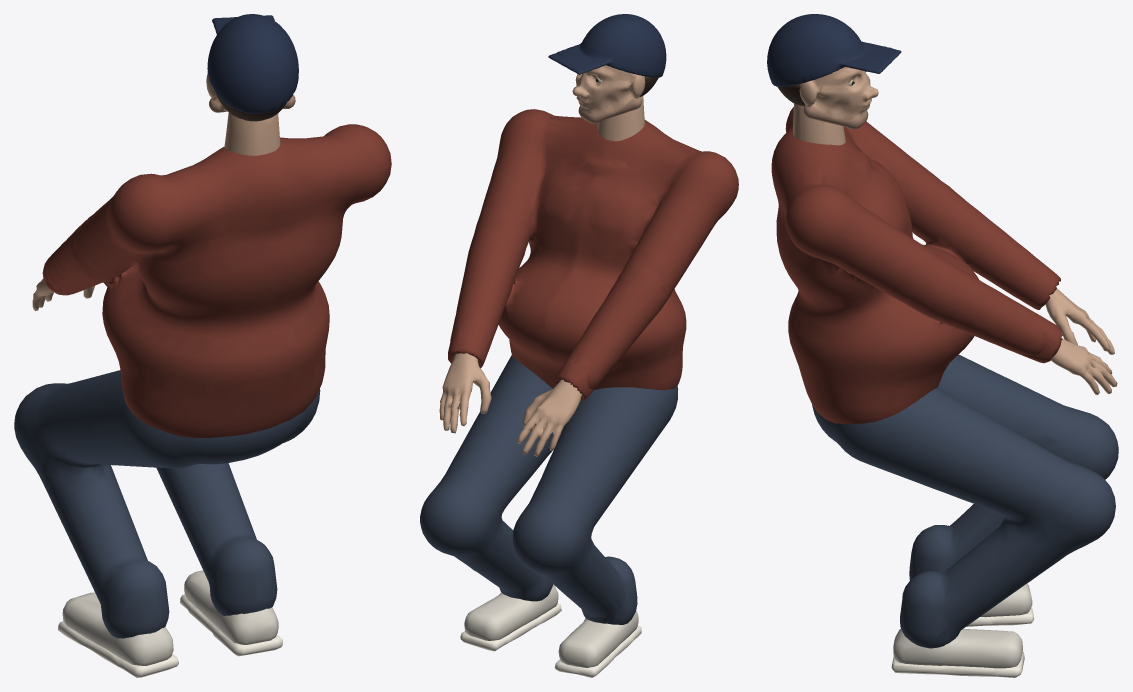
File: crew_b.glb
The picture shows the model from 3 angles, left to right: view 1: azimuth 30°, elevation 25°; view 2: azimuth 150°, elevation 25°; view 3: azimuth 270°, elevation 25°; orthographic projection. The views are drawn at different scales.
Visible parts, largest first — view 1: crew_b_body, crew_b_head, crew_b_hands; view 2: crew_b_body, crew_b_head, crew_b_hands; view 3: crew_b_body, crew_b_head, crew_b_hands.
Part boxes in pixels (x1,y1,x2,y2): crew_b_body: [14, 112, 391, 677]; crew_b_head: [206, 14, 298, 121]; crew_b_hands: [32, 252, 94, 311]; crew_b_body: [420, 96, 738, 677]; crew_b_head: [548, 14, 666, 123]; crew_b_hands: [439, 326, 594, 456]; crew_b_body: [771, 103, 1118, 677]; crew_b_head: [767, 14, 901, 129]; crew_b_hands: [1012, 259, 1117, 394].
Bounding box in the file's own units: 0.6298 × 1.51 × 0.7681.
